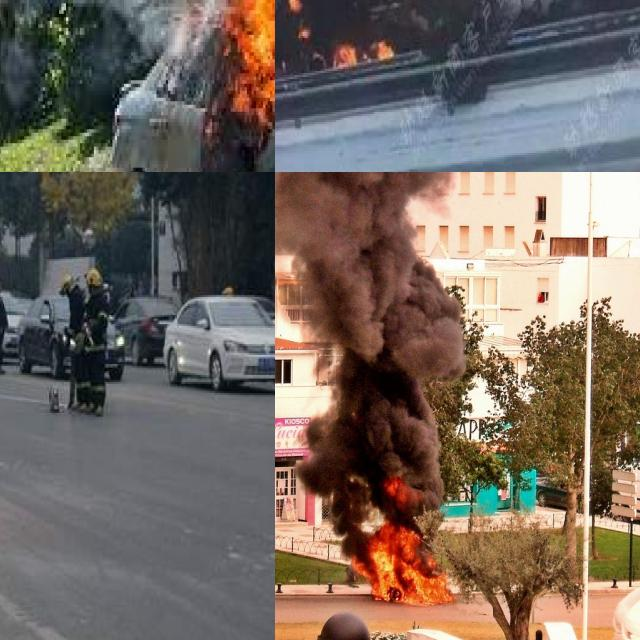fire: (349, 480, 459, 607), (326, 36, 394, 69), (280, 0, 312, 44)
smoke: (275, 172, 461, 559), (0, 0, 237, 49)
